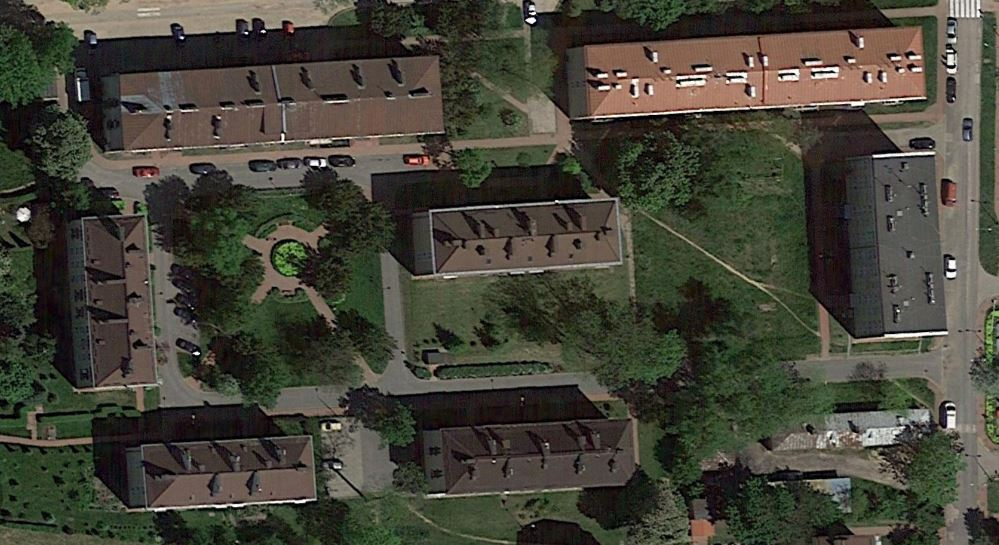block of flats: (560, 20, 934, 127), (95, 53, 449, 161), (840, 146, 948, 346), (409, 190, 626, 282), (416, 414, 637, 502), (67, 211, 163, 400), (121, 433, 321, 517)
